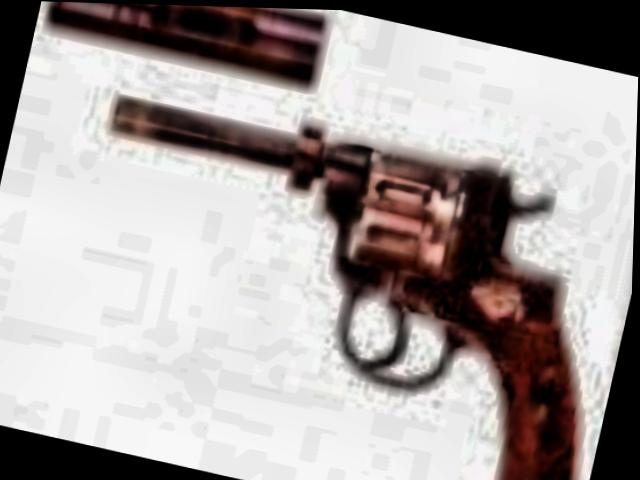pistol: (45, 64, 635, 480)
